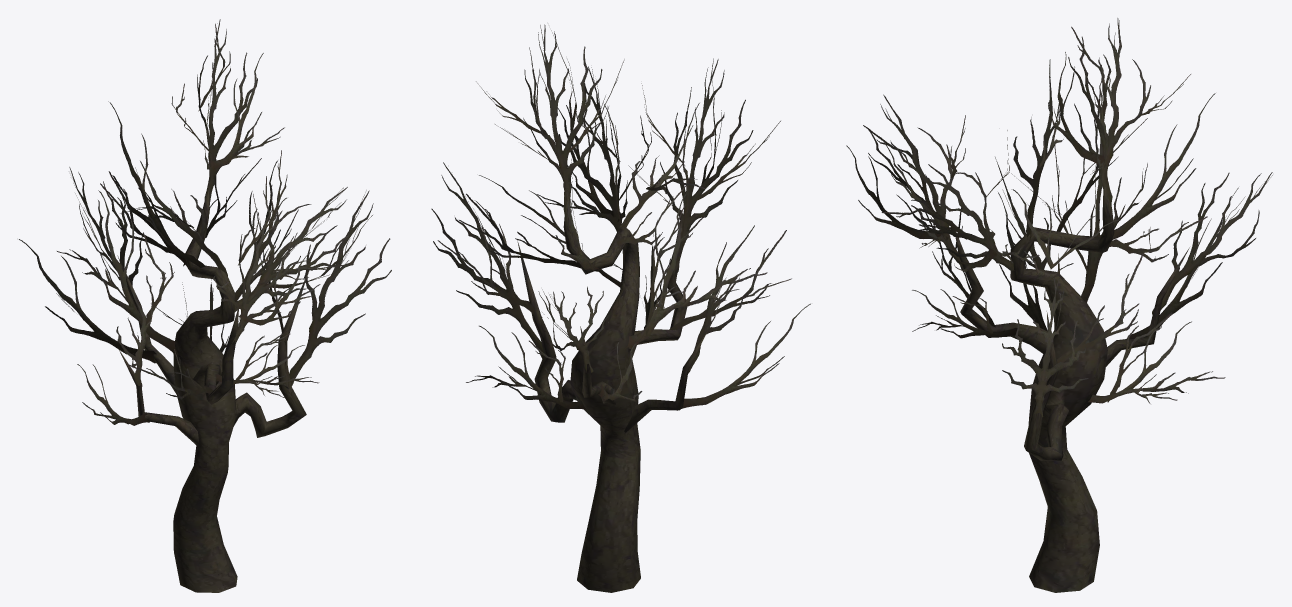
The picture shows the model from 3 angles, left to right: view 1: azimuth 30°, elevation 25°; view 2: azimuth 150°, elevation 25°; view 3: azimuth 270°, elevation 25°; orthographic projection. The views are drawn at different scales.
Size of the model in its own units: 40.39 by 63.57 by 42.69.
Materials: 2 (2 with a texture image).
